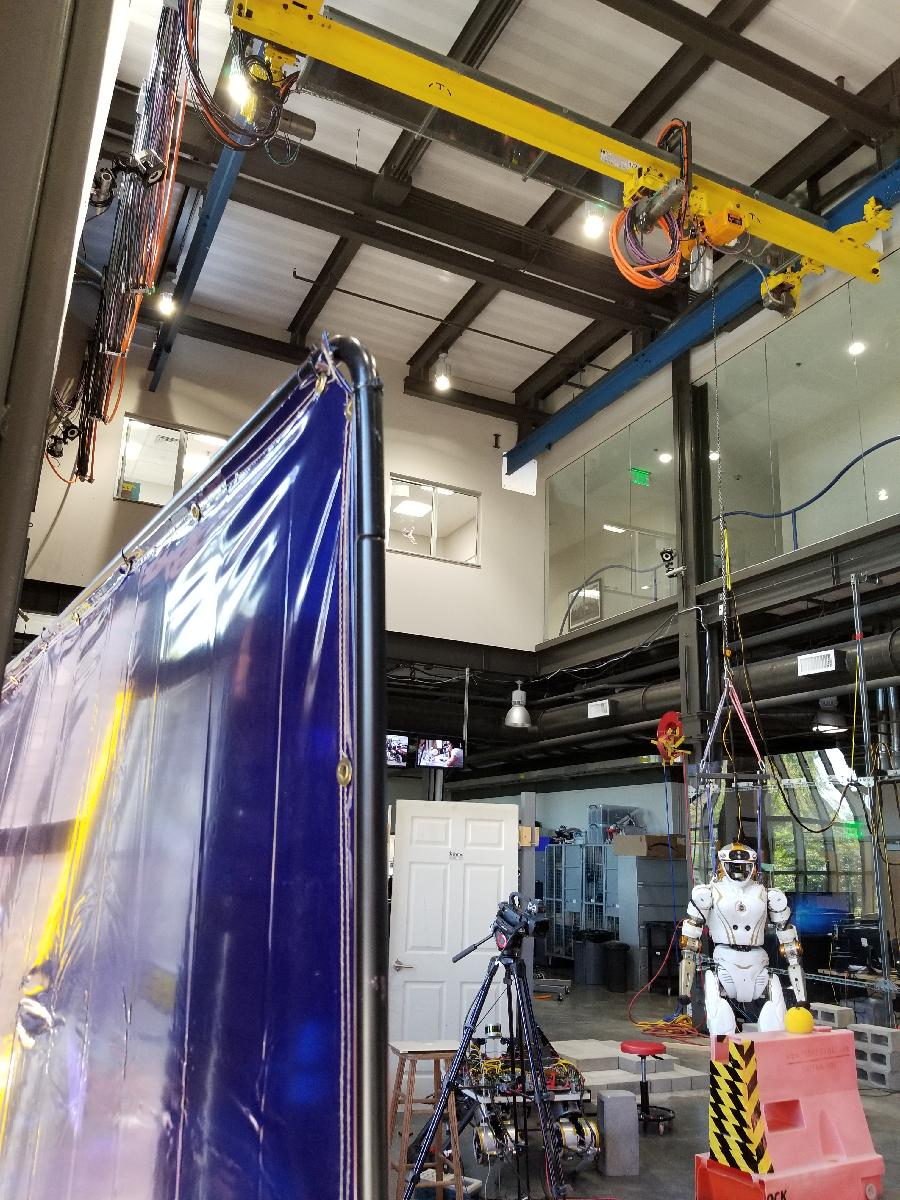door: (387, 793, 524, 1063)
doorHandle: (395, 959, 417, 974)
